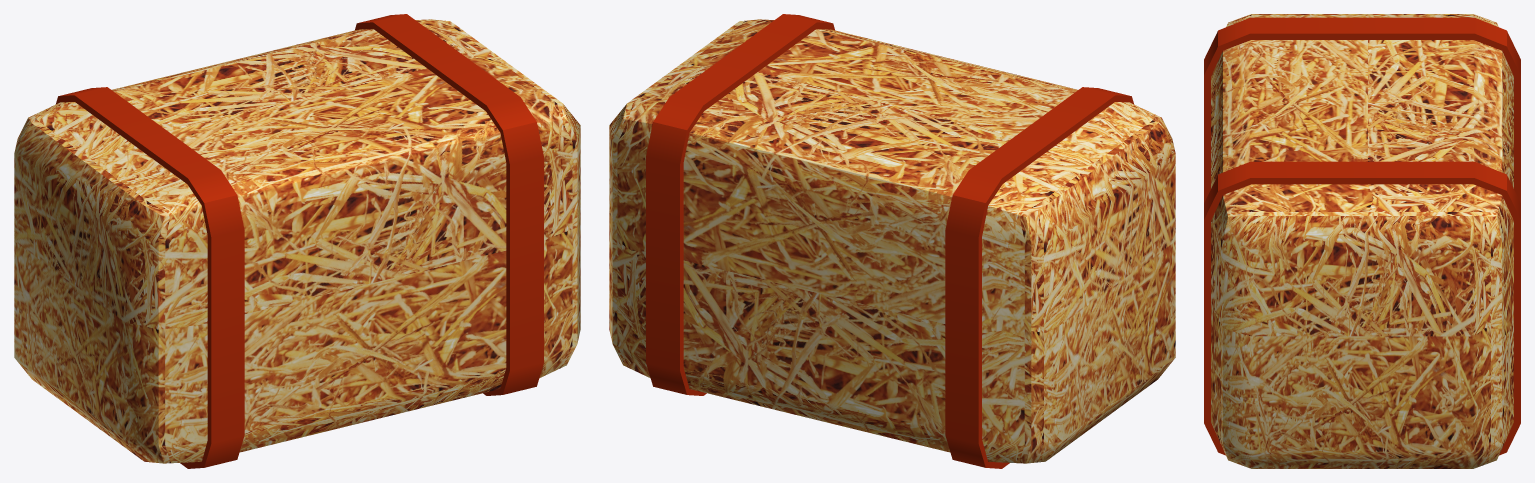
Rendered from HayStack.fbx.
3 renders of one model, left to right at view 1: azimuth 30°, elevation 25°; view 2: azimuth 150°, elevation 25°; view 3: azimuth 270°, elevation 25°, orthographic.
Parts seen in each view (by area): view 1: pCube14; view 2: pCube14; view 3: pCube14.
Part boxes in pixels (x1,y1,x2,y2): pCube14: (14,14,580,468); pCube14: (609,14,1175,468); pCube14: (1204,14,1520,468).
Bounding box in the file's own units: 0.556 × 0.3399 × 0.3399.
